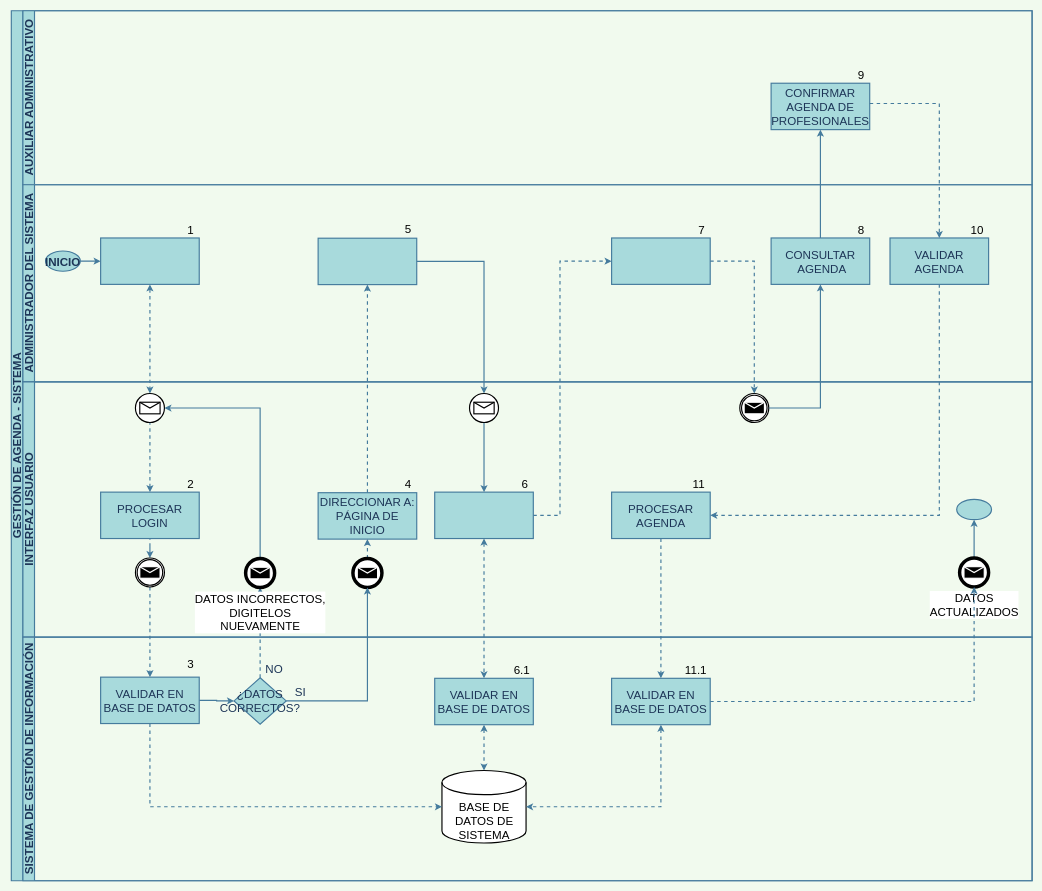
Image size: 1042x891. Some labels were removed from this diagram. Here are the shapes that lost their labels. From the top down, the centre of each, then its label:
At [150,261]: "INGRESAR A LA PLATAFORMA".
At [367,261]: "INGRESAR A MODULO: GESTIÓN DE AGENDA".
At [660,261]: "SELECCIONAR TIPO DE ESPECIALIDAD".
At [150,408]: "DIGITAR DATOS PARA INICIO SESIÓN".
At [484,408]: "SELECCIONE ESPECIALIDAD".
At [754,408]: "CARGAR AGENDA DE LA ESPECIALIDAD".
At [484,515]: "MOSTRAR LISTA DE ESPECIALIDADES".
At [974,509]: "FIN".
At [150,572]: "VALIDANDO INFORMACIÓN".
At [367,573]: "BIENVENIDO".
